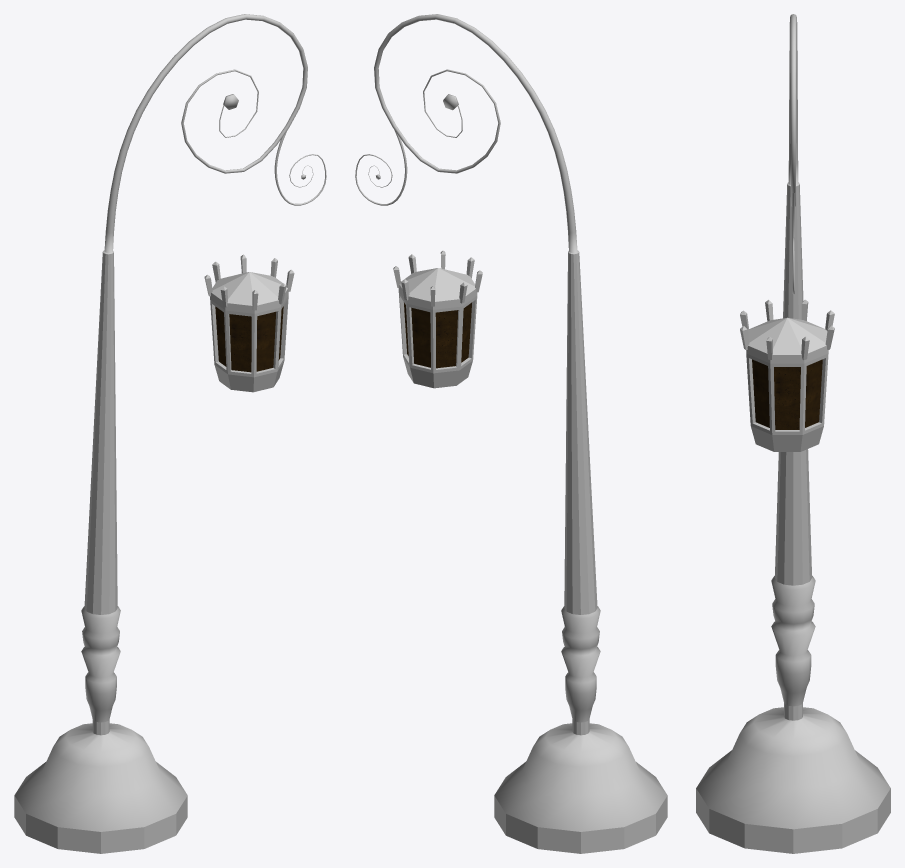
File: farola.obj
3 renders of one model, left to right at view 1: azimuth 30°, elevation 25°; view 2: azimuth 150°, elevation 25°; view 3: azimuth 270°, elevation 25°, orthographic. The views are drawn at different scales.
Parts seen in each view (by area): view 1: Farola_Farola_Tex_0, Farola_Lampara_uv_0; view 2: Farola_Farola_Tex_0, Farola_Lampara_uv_0; view 3: Farola_Farola_Tex_0, Farola_Lampara_uv_0.
Boxes of the visible parts, <box> form: Farola_Farola_Tex_0: <box>14,14,326,853</box>; Farola_Lampara_uv_0: <box>215,306,283,372</box>; Farola_Farola_Tex_0: <box>355,14,667,853</box>; Farola_Lampara_uv_0: <box>404,302,471,368</box>; Farola_Farola_Tex_0: <box>696,14,890,853</box>; Farola_Lampara_uv_0: <box>752,359,822,429</box>.
Bounding box in the file's own units: 1.34 × 3.27 × 0.6694.
Materials: 3 (1 with a texture image).
